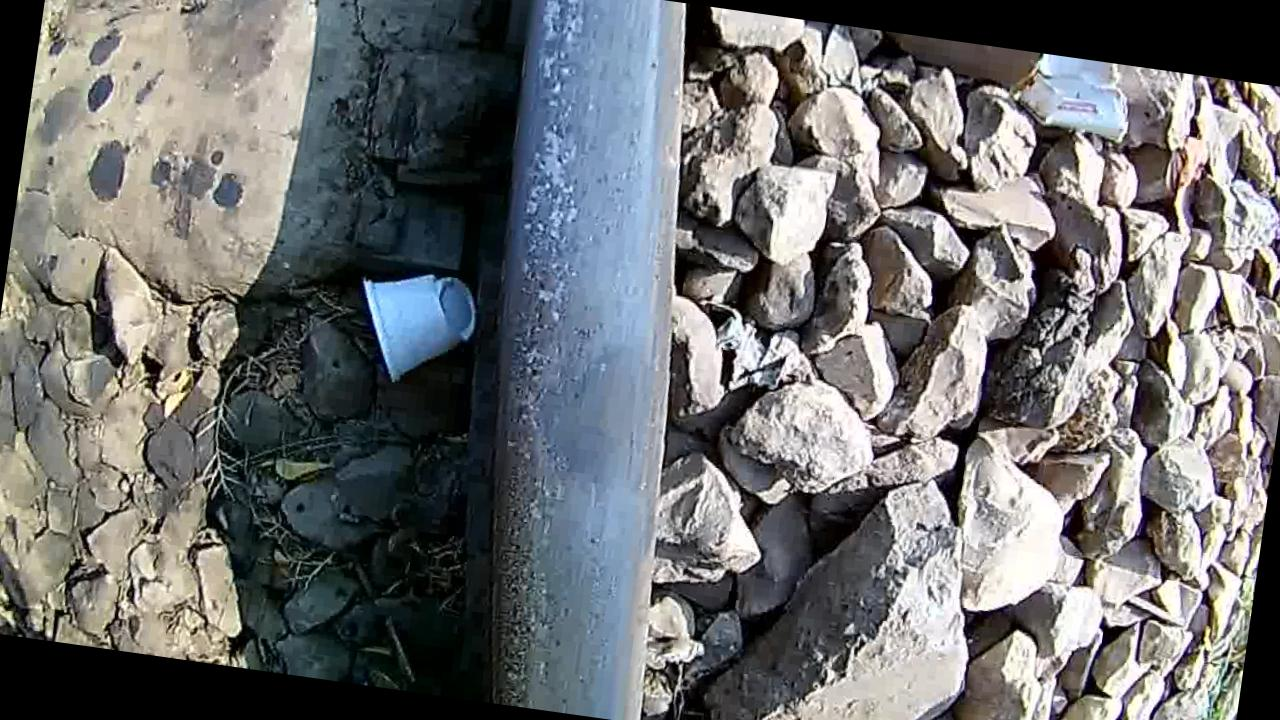bolt_missing: (476, 253, 692, 566)
